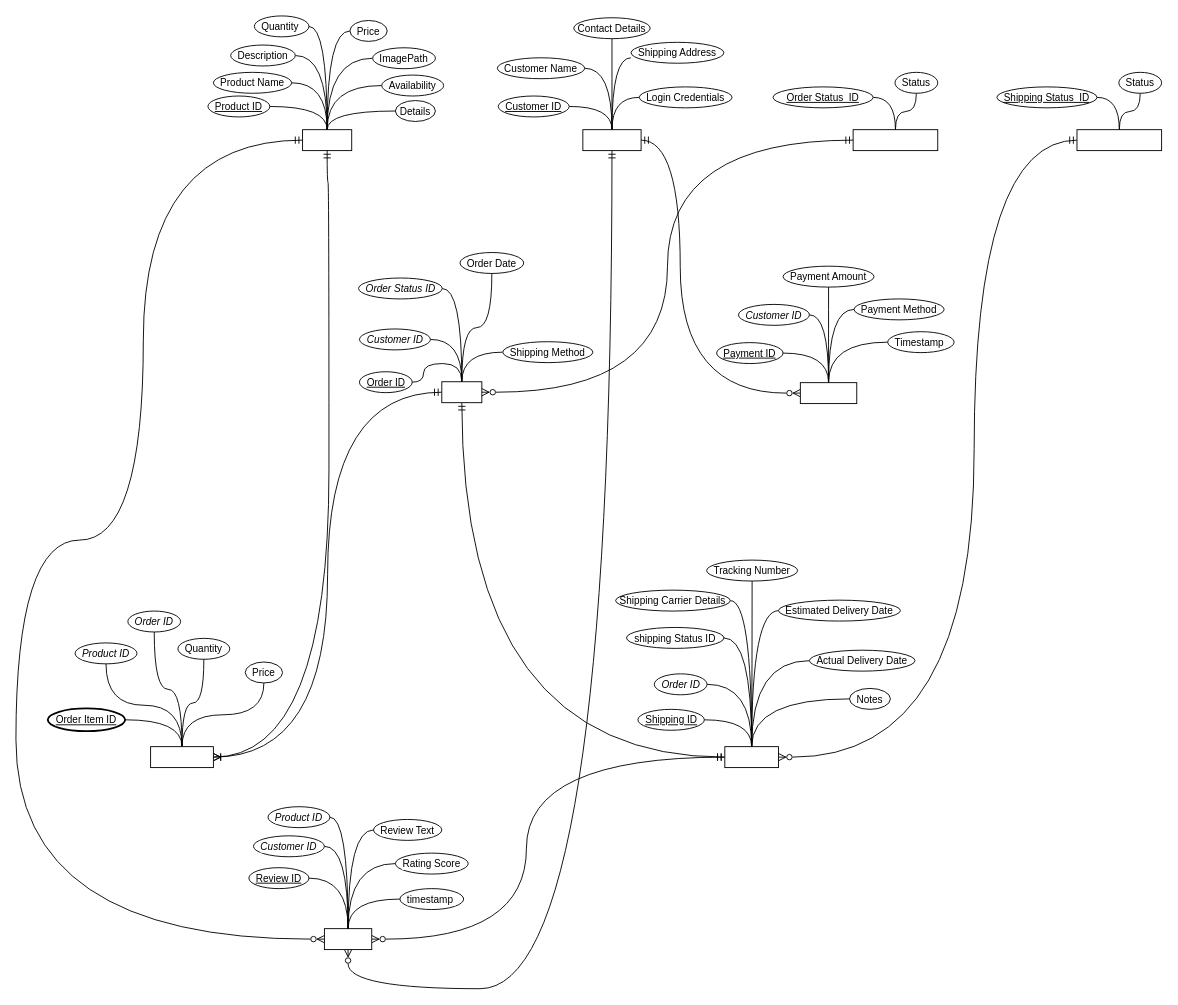
The diagram is 1178 pixels wide and 1005 high, and some of its shapes have lost their labels. Here are the shapes that lost their labels. From the top down, the box of each, then its label:
(302, 129, 352, 151): Product
(582, 129, 641, 151): Customer
(852, 129, 938, 151): Order Status
(1076, 129, 1162, 151): Shipping Status
(441, 381, 482, 403): Order
(799, 382, 857, 404): Payment
(150, 746, 213, 768): Order Item
(724, 746, 779, 768): Shipping
(324, 928, 372, 950): Review
